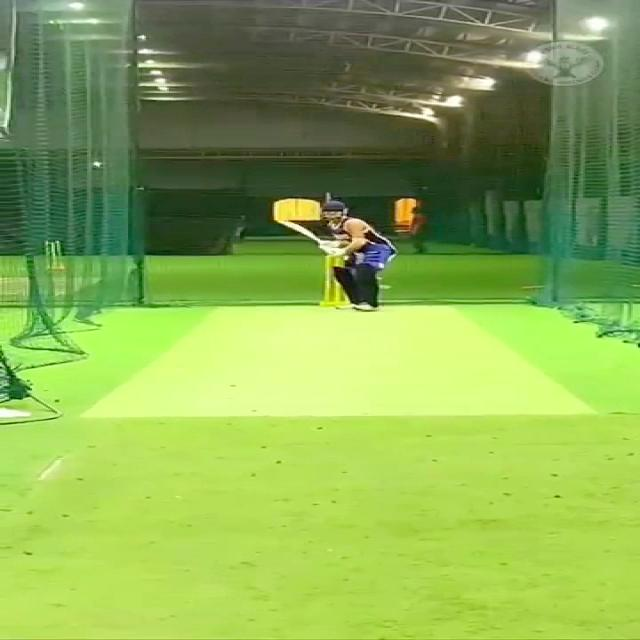batsman: (275, 195, 399, 312)
